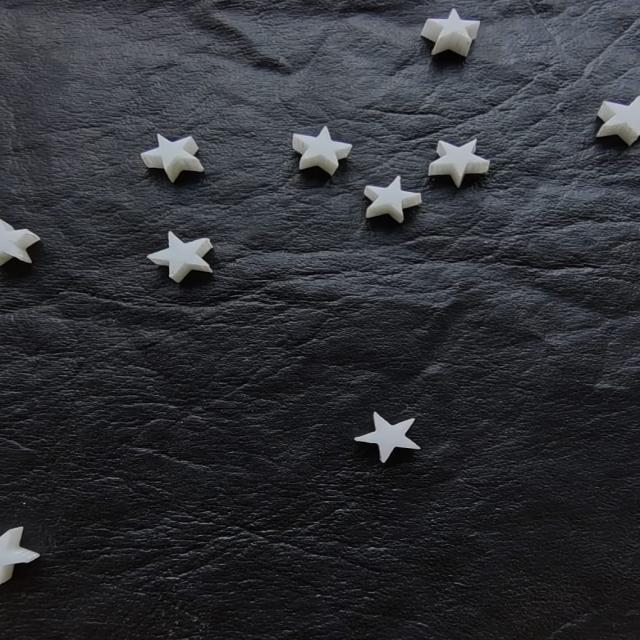estrellas: (354, 413, 419, 464), (147, 229, 207, 276), (293, 127, 352, 165), (432, 138, 491, 175), (142, 134, 195, 170), (365, 177, 419, 212), (431, 10, 479, 40)
